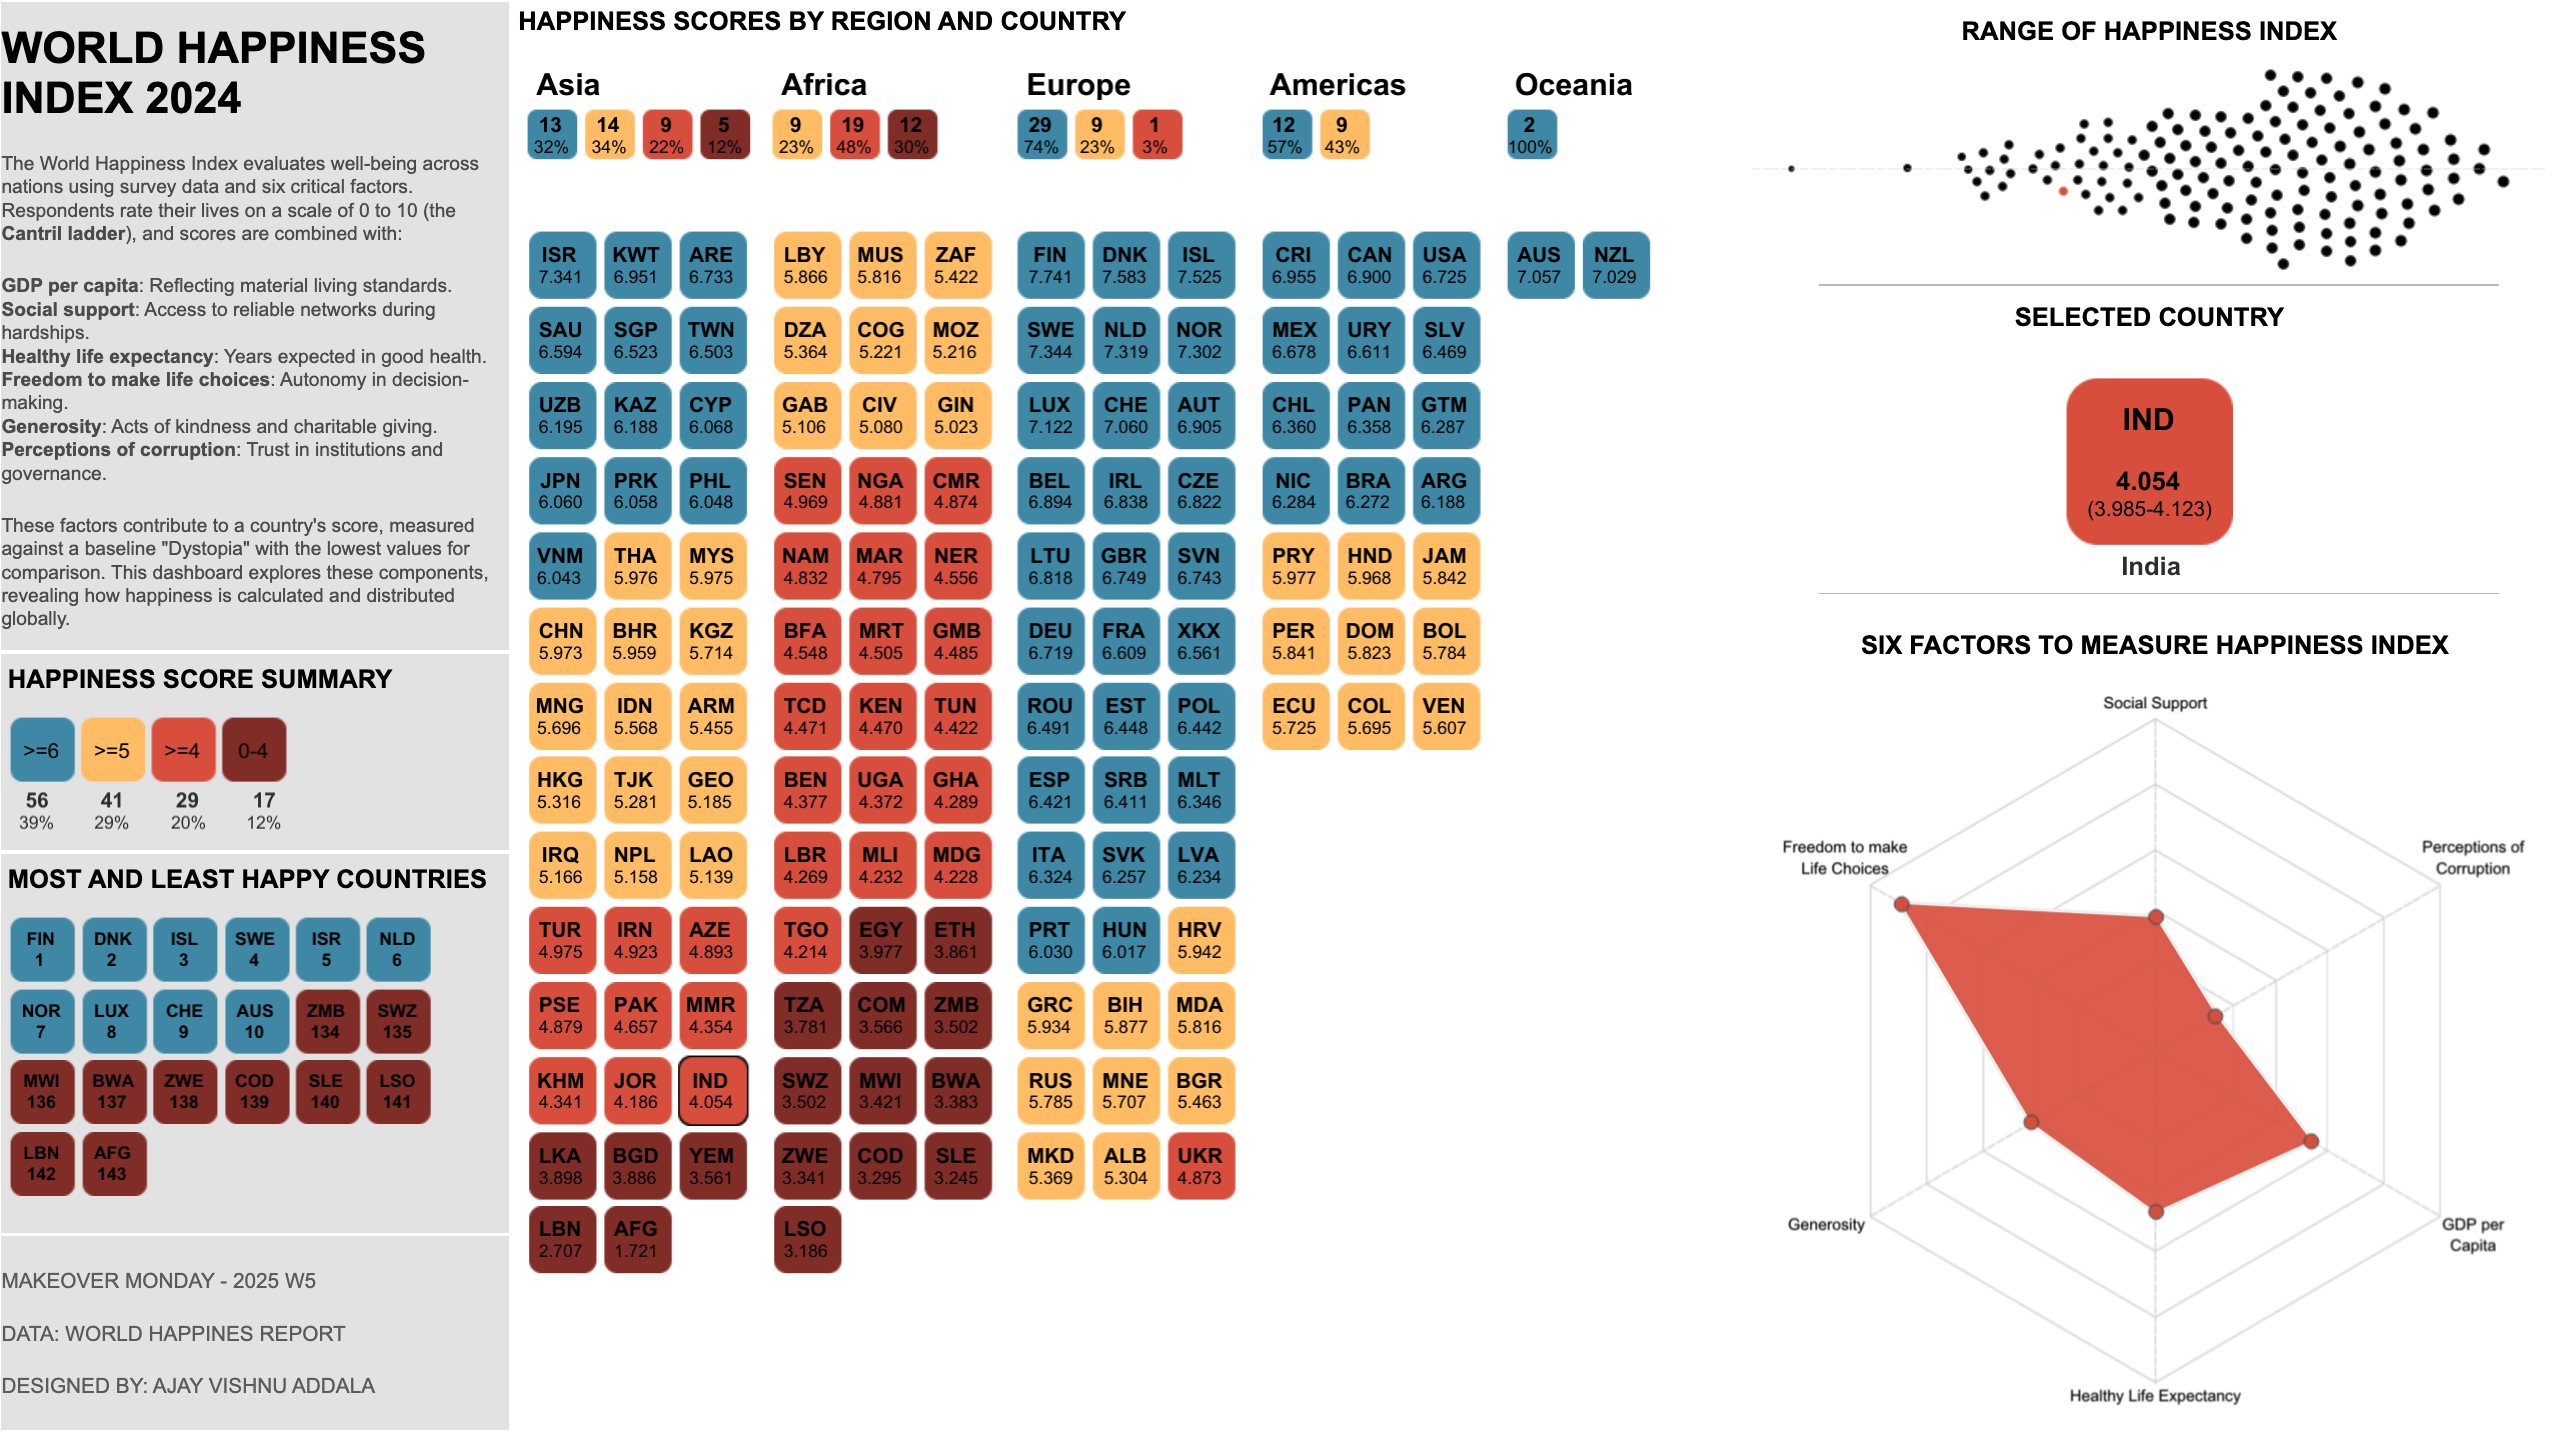

Layout of this report page (visuals, bound fields, positions):
{"tool":"tableau","page":{"name":"MOM2025 - W5","canvas":[1600,900],"ordinal":0},"visuals":[{"type":"text","box":[2,2,321,407]},{"type":"text","box":[323,2,772,27]},{"type":"worksheet","title":"Beeswarm","mark":"Circle","rows":["Y"],"cols":["X"],"box":[1095,2,503,179]},{"type":"worksheet","title":"Regions","mark":"Shape","rows":["COL (copy)_843580517256245261"],"cols":["Calculation_1530309121472679937"],"box":[323,41,772,96]},{"type":"worksheet","title":"Countries","mark":"Shape","rows":["COL (copy)_843580517256245261"],"cols":["Region","Calculation_843580517256212492"],"box":[323,137,772,761]},{"type":"worksheet","title":"Selected Country","mark":"Shape","box":[1095,181,503,185]},{"type":"worksheet","title":"Selected Country (2)","mark":"Text","box":[1160,337,377,39]},{"type":"worksheet","title":"Radar","mark":"Polygon","box":[1106,390,488,505]},{"type":"worksheet","title":"Color Coding","mark":"Shape","box":[2,409,321,125]},{"type":"worksheet","title":"Countries Numbers","mark":"Text","cols":["Calculation_4027484745487802368"],"box":[8,484,175,52]},{"type":"worksheet","title":"Top and Bottom 10","mark":"Shape","box":[2,534,321,241]},{"type":"text","box":[2,775,321,123]}]}

Visuals, with their boxes in screenshot pixels (x1, y1, x2, y2), scaled from the page's 1600x900 canvas onto the 2554x1434 screenshot:
text: detection(3, 3, 516, 652)
text: detection(516, 3, 1748, 46)
"Beeswarm" worksheet (Circle marks): detection(1748, 3, 2551, 288)
"Regions" worksheet (Shape marks): detection(516, 65, 1748, 218)
"Countries" worksheet (Shape marks): detection(516, 218, 1748, 1431)
"Selected Country" worksheet (Shape marks): detection(1748, 288, 2551, 583)
"Selected Country (2)" worksheet (Text marks): detection(1852, 537, 2453, 599)
"Radar" worksheet (Polygon marks): detection(1765, 621, 2544, 1426)
"Color Coding" worksheet (Shape marks): detection(3, 652, 516, 851)
"Countries Numbers" worksheet (Text marks): detection(13, 771, 292, 854)
"Top and Bottom 10" worksheet (Shape marks): detection(3, 851, 516, 1235)
text: detection(3, 1235, 516, 1431)
